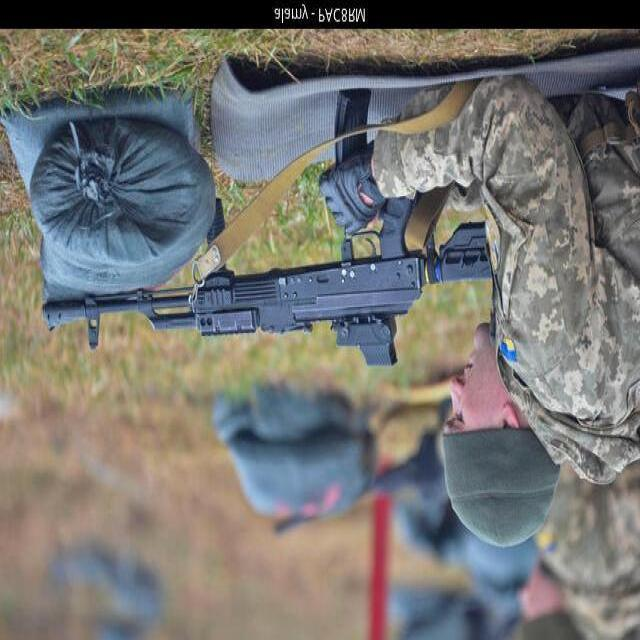weapon: (41, 88, 494, 366)
